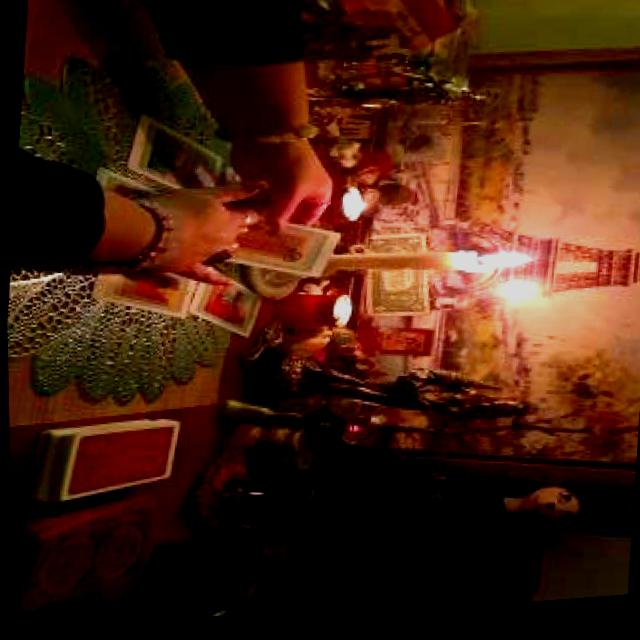Fire: (466, 252, 537, 284)
